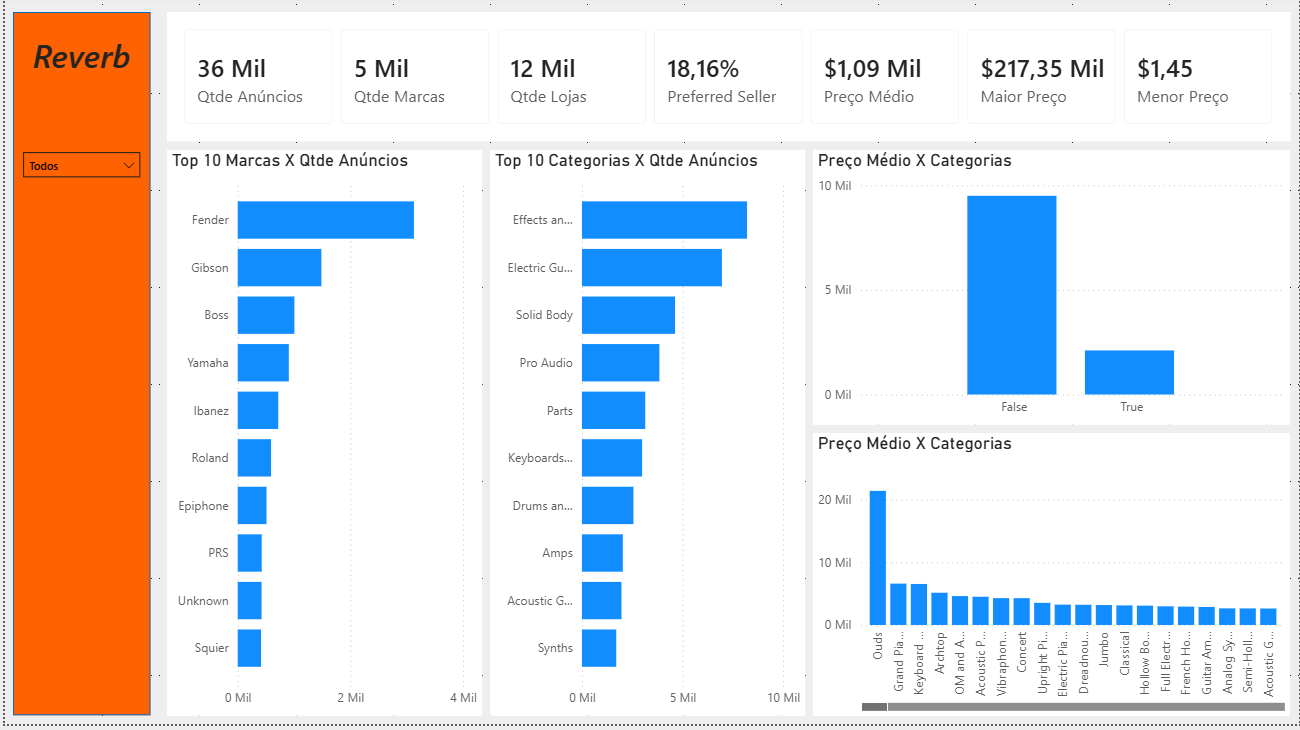

The page's visual inventory and layout, read from the dashboard file:
{"tool":"powerbi","page":{"name":"Market Overview","canvas":[1920,1080],"ordinal":0},"visuals":[{"type":"cardVisual","title":"KPI Card","fields":{"Data":["metrics.total_listings","metrics.total_brands","metrics.total_categories","metrics.Average_price","metrics.median_price"]},"box":[810.6,16.3,1090.4,104.6],"z":0},{"type":"slicer","title":"category slicer","fields":{"Values":["public vw_listings_analysis.category"]},"box":[1614.5,133.1,286,61.3],"z":0,"group":"g2"},{"type":"actionButton","title":"unselected avg price","box":[1458.5,148.4,114.4,39.9],"z":0,"group":"g4"},{"type":"actionButton","title":"unselected m price","box":[1326.6,149.4,114.4,39.9],"z":0,"group":"g3"},{"type":"clusteredBarChart","title":"Total Listings by Category","fields":{"Category":["public vw_listings_analysis.category"],"Y":["metrics.total_listings"]},"box":[17.5,132.8,776.2,500.4],"z":1000},{"type":"actionButton","title":"selected m price","box":[1326.6,148,114.4,39.9],"z":1000,"group":"g3"},{"type":"slicer","title":"condition slicer","fields":{"Values":["public vw_listings_analysis.condition"]},"box":[1614.5,309.6,286,75.9],"z":1000,"group":"g2"},{"type":"group","id":"g1","title":"Avg Median Category","box":[810.6,133.1,792.2,501.8],"z":1500},{"type":"slicer","title":"brand slicer","fields":{"Values":["brand_table.make"]},"box":[1614.5,223.6,286,64.2],"z":2000,"group":"g2"},{"type":"clusteredBarChart","title":"Top 10 Brands by Listings","fields":{"Category":["brand_table.make"],"Y":["metrics.Total Listings Known Brands"]},"box":[17.5,650.7,776.2,410],"z":2000},{"type":"clusteredBarChart","title":"Top 10 Shops by Listings","fields":{"Category":["public vw_listings_analysis.shop"],"Y":["metrics.total_listings"]},"box":[810.6,650.4,793,410.1],"z":3000},{"type":"textbox","title":"Title","box":[31.2,59.7,458.1,61.3],"z":4000},{"type":"clusteredBarChart","title":"Median Price by Category","fields":{"Category":["public vw_listings_analysis.category"],"Y":["metrics.median_price"]},"box":[810.6,134.5,792.2,500.4],"z":5000,"group":"g1"},{"type":"group","id":"g2","title":"Group 1","box":[1614.5,133.1,286.5,252.6],"z":7000},{"type":"group","id":"g3","title":"m button","box":[1326.6,148,114.4,41.3],"z":8000,"group":"g1"},{"type":"group","id":"g4","title":"avg button","box":[1458.1,148.4,115.1,39.4],"z":9000,"group":"g1"}]}

Visuals, with their boxes in screenshot pixels (x1, y1, x2, y2), scaled from the page's 1920x1080 canvas onto the 1300x730 screenshot:
"KPI Card" cardVisual: region(549, 11, 1287, 82)
"category slicer" slicer: region(1093, 90, 1287, 131)
"unselected avg price" actionButton: region(988, 100, 1065, 127)
"unselected m price" actionButton: region(898, 101, 976, 128)
"Total Listings by Category" clusteredBarChart: region(12, 90, 537, 428)
"selected m price" actionButton: region(898, 100, 976, 127)
"condition slicer" slicer: region(1093, 209, 1287, 261)
"Avg Median Category" group: region(549, 90, 1085, 429)
"brand slicer" slicer: region(1093, 151, 1287, 195)
"Top 10 Brands by Listings" clusteredBarChart: region(12, 440, 537, 717)
"Top 10 Shops by Listings" clusteredBarChart: region(549, 440, 1086, 717)
"Title" textbox: region(21, 40, 331, 82)
"Median Price by Category" clusteredBarChart: region(549, 91, 1085, 429)
"Group 1" group: region(1093, 90, 1287, 261)
"m button" group: region(898, 100, 976, 128)
"avg button" group: region(987, 100, 1065, 127)
